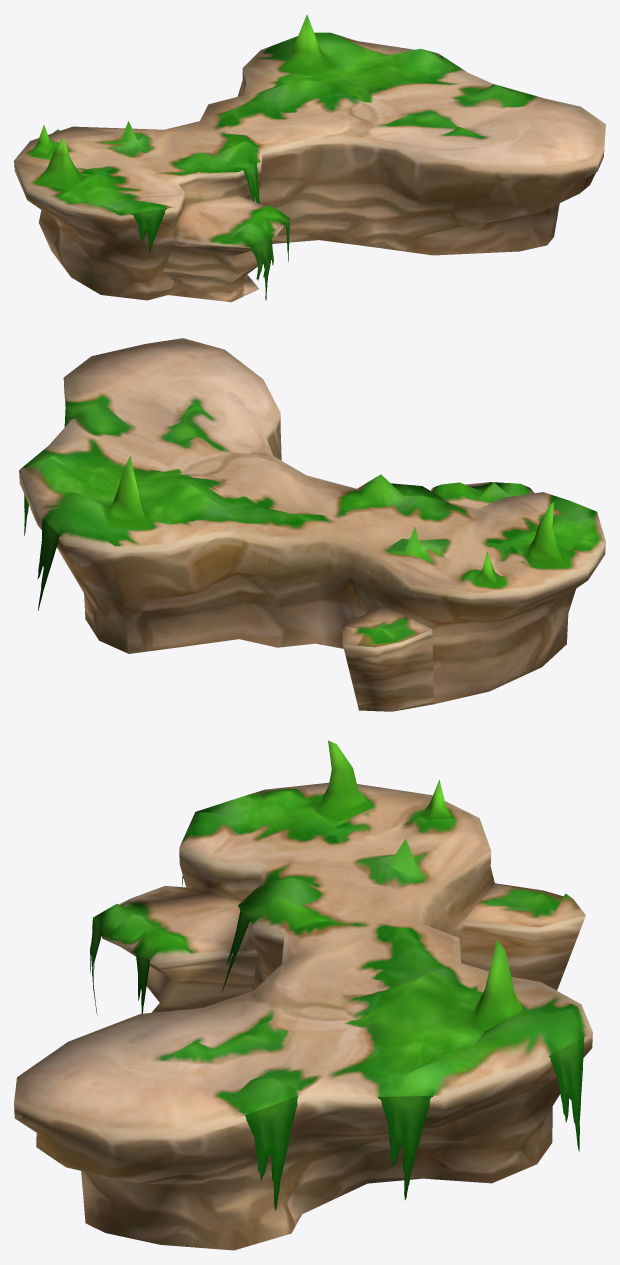
The model's file is shanti02.FBX.
The picture shows the model from 3 angles, top to bottom: view 1: azimuth 30°, elevation 25°; view 2: azimuth 150°, elevation 25°; view 3: azimuth 270°, elevation 25°; orthographic projection. The views are drawn at different scales.
Visible parts, largest first — view 1: shanti02; view 2: shanti02; view 3: shanti02.
Part boxes in pixels (bbox=[...]): shanti02: bbox=[14, 14, 605, 302]; shanti02: bbox=[19, 338, 605, 711]; shanti02: bbox=[14, 740, 592, 1250].
Size of the model in its own units: 690 by 199 by 492.
